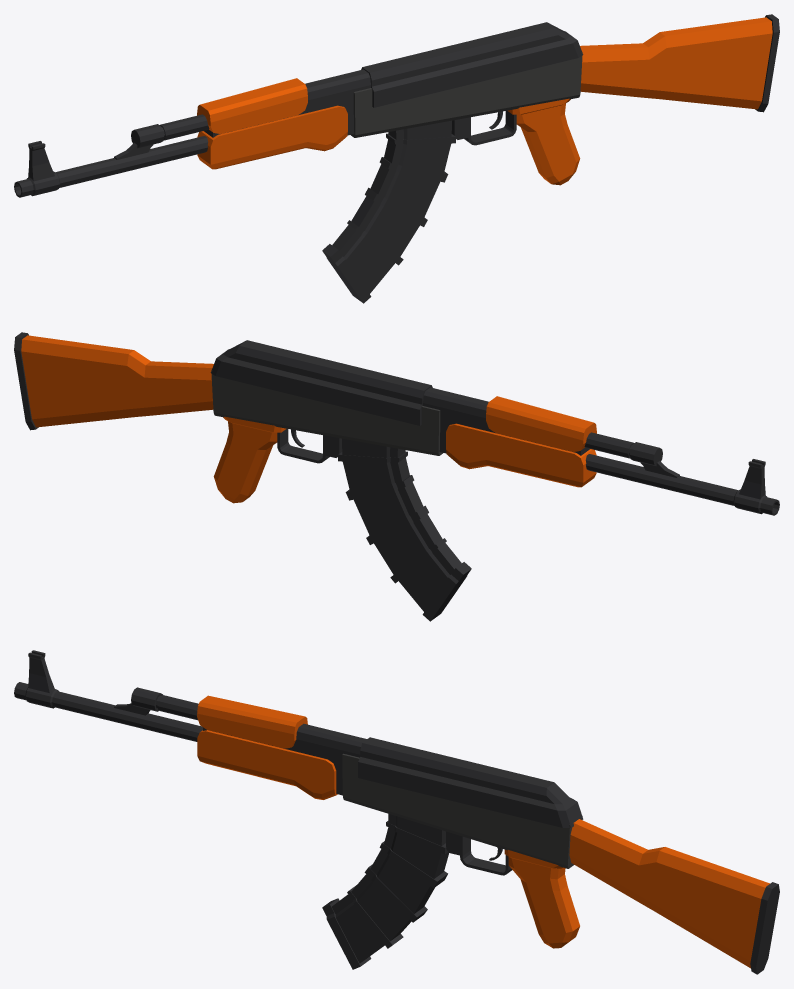
File: Rifle_L1.fbx
The picture shows the model from 3 angles, top to bottom: view 1: azimuth 30°, elevation 25°; view 2: azimuth 150°, elevation 25°; view 3: azimuth 330°, elevation 25°; orthographic projection.
Visible parts, largest first — view 1: Rifle1; view 2: Rifle1; view 3: Rifle1.
Boxes of the visible parts, <box> form: Rifle1: <box>14,14,779,303</box>; Rifle1: <box>14,332,779,621</box>; Rifle1: <box>14,650,779,974</box>.
Size of the model in its own units: 95.55 by 28.22 by 3.45.
